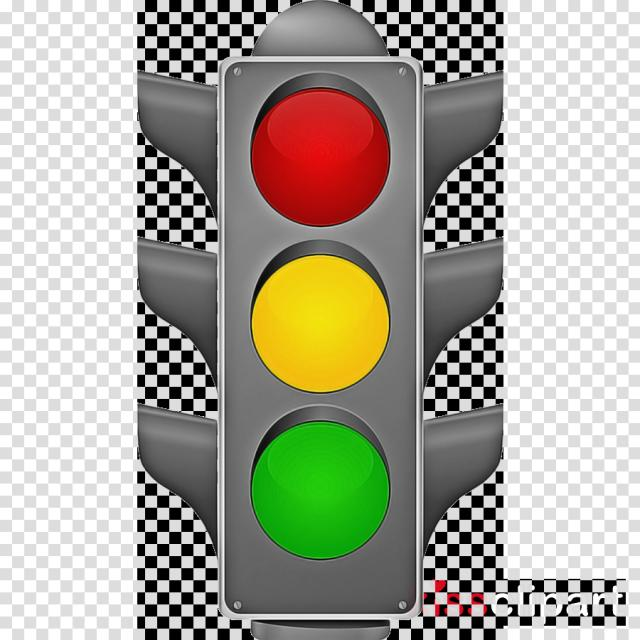green-lights: (247, 410, 450, 581)
red-lights: (242, 71, 391, 226)
yellow-lights: (243, 252, 435, 385)
